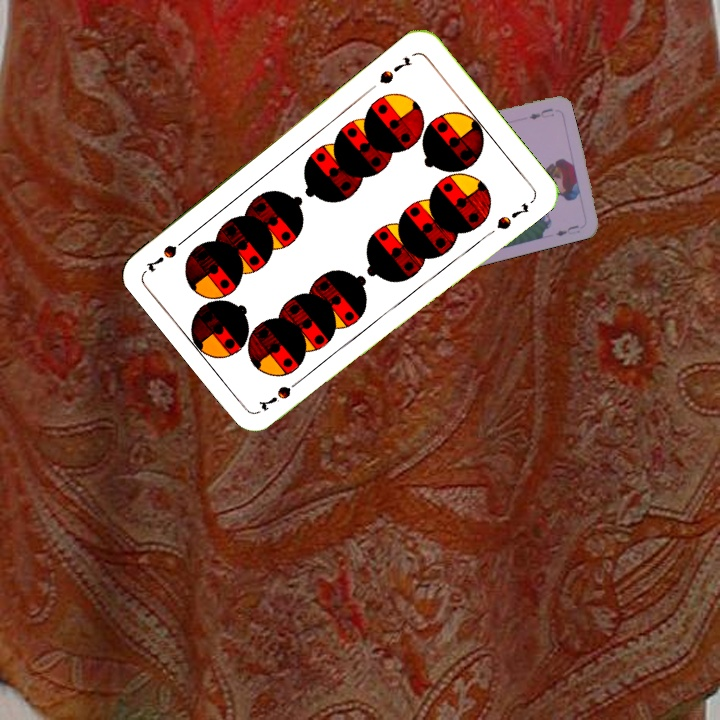EU: (525, 104, 556, 122)
S7: (256, 372, 307, 414), (375, 52, 414, 87)
